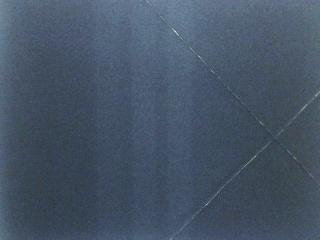crack: (142, 0, 320, 187), (169, 92, 319, 240)
